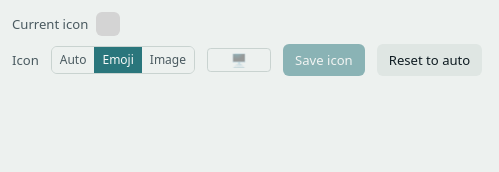
WorkstationIconSettings › auto mode has no Save button; shows current icon
Click the button "Auto" at (73,60), box [52, 47, 94, 73]
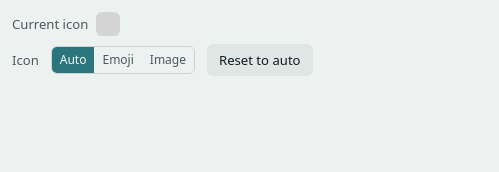
Now the button "Save icon" is gone
